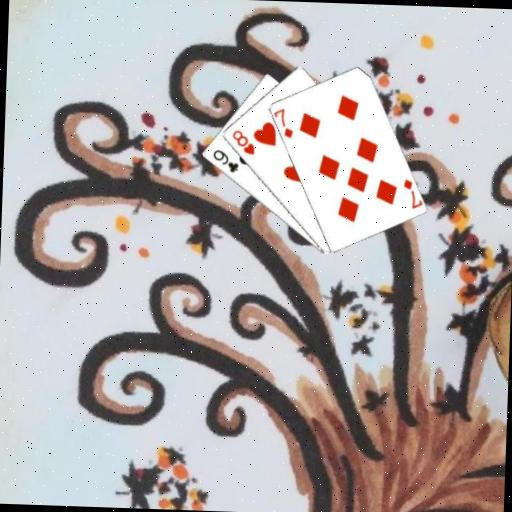7D: (270, 105, 295, 140), (399, 175, 423, 210)
8H: (228, 127, 256, 157)
9C: (209, 146, 240, 175)
